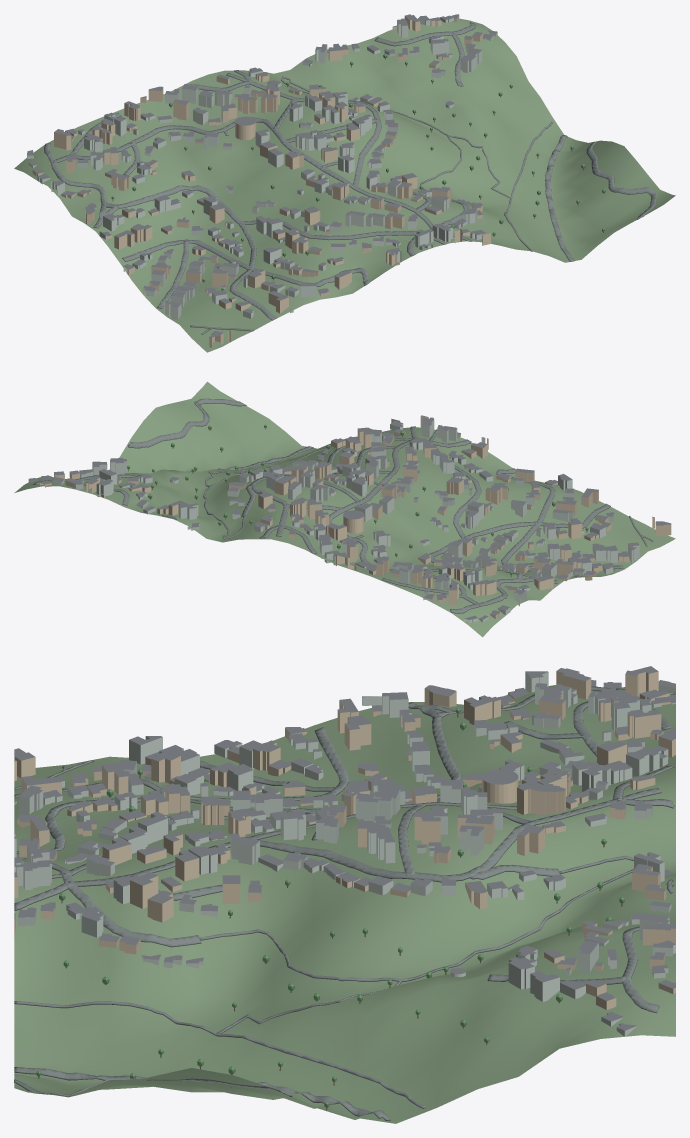
Rendered from montclair.glb.
3 renders of one model, top to bottom at view 1: azimuth 30°, elevation 25°; view 2: azimuth 150°, elevation 25°; view 3: azimuth 270°, elevation 25°, orthographic. The views are drawn at different scales.
Parts seen in each view (by area): view 1: terrain-1, buildings-1, roads-2, roads-1, authored-tree-canopies, roads-3, roads-4; view 2: terrain-1, buildings-1, roads-2, roads-1, authored-tree-canopies, roads-3; view 3: terrain-1, buildings-1, roads-2, roads-1, roads-3, roads-4, authored-tree-canopies.
Boxes of the visible parts, bbox=[...] form: terrain-1: bbox=[14, 17, 675, 352]; buildings-1: bbox=[27, 14, 497, 347]; roads-2: bbox=[53, 22, 656, 308]; roads-1: bbox=[44, 135, 574, 320]; authored-tree-canopies: bbox=[111, 54, 605, 290]; roads-3: bbox=[201, 76, 510, 334]; roads-4: bbox=[190, 121, 552, 331]; terrain-1: bbox=[14, 381, 675, 637]; buildings-1: bbox=[28, 415, 671, 623]; roads-2: bbox=[33, 398, 623, 604]; roads-1: bbox=[191, 446, 610, 613]; authored-tree-canopies: bbox=[127, 424, 588, 574]; roads-3: bbox=[203, 471, 652, 541]; terrain-1: bbox=[14, 685, 675, 1123]; buildings-1: bbox=[14, 666, 675, 1036]; roads-2: bbox=[14, 690, 674, 1097]; roads-1: bbox=[14, 686, 675, 1120]; roads-3: bbox=[62, 766, 633, 1033]; roads-4: bbox=[14, 760, 425, 1108]; authored-tree-canopies: bbox=[36, 708, 624, 1107].
Bounding box in the file's own units: 700 × 143 × 500.
